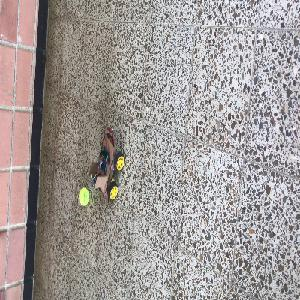Ball: (78, 188, 89, 206)
Robot: (86, 133, 125, 203)
